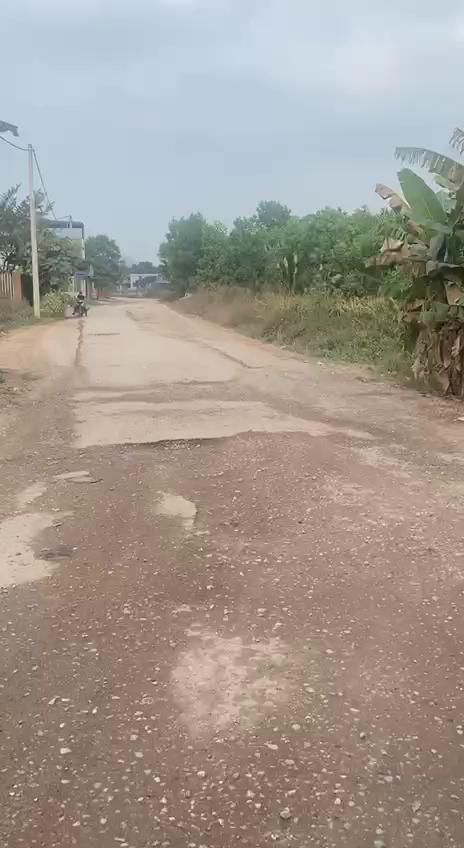pothole: (159, 479, 261, 532), (120, 434, 226, 470)
